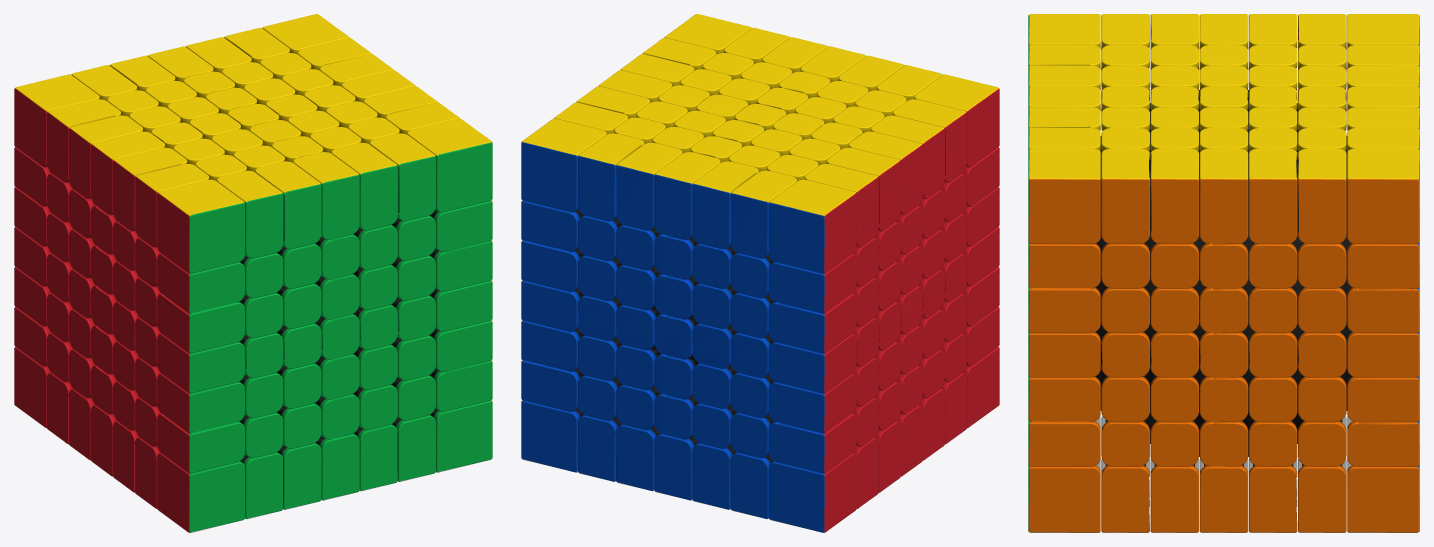
The picture shows the model from 3 angles, left to right: view 1: azimuth 30°, elevation 25°; view 2: azimuth 150°, elevation 25°; view 3: azimuth 270°, elevation 25°; orthographic projection. The views are drawn at different scales.
Visible parts, largest first — view 1: piece_-3,3,3, piece_-3,-3,3, piece_3,3,3, piece_-3,3,-3, piece_-3,-2,3, piece_-3,1,3, piece_-3,0,3, piece_-3,-1,3, piece_-3,2,3, piece_-1,3,3, piece_3,-3,3, piece_1,3,3 (+115 smaller); view 2: piece_-3,3,-3, piece_-3,-3,-3, piece_3,3,-3, piece_-3,3,3, piece_-3,-2,-3, piece_-3,1,-3, piece_-3,0,-3, piece_-3,2,-3, piece_-3,-1,-3, piece_1,3,-3, piece_-1,3,-3, piece_2,3,-3 (+115 smaller); view 3: piece_3,3,-3, piece_3,3,3, piece_3,-3,3, piece_3,-3,-3, piece_3,3,0, interior_occlusion, piece_3,3,2, piece_3,3,-1, piece_3,3,-2, piece_3,3,1, piece_3,-3,0, piece_3,1,3 (+80 smaller).
Part boxes in pixels (x1,y1,x2,y2): piece_-3,3,3: (157, 179, 245, 273); piece_-3,-3,3: (157, 453, 245, 532); piece_3,3,3: (407, 118, 492, 212); piece_-3,3,-3: (14, 74, 99, 167); piece_-3,-2,3: (157, 413, 245, 473); piece_-3,1,3: (157, 294, 245, 353); piece_-3,0,3: (157, 333, 245, 393); piece_-3,-1,3: (157, 373, 245, 433); piece_-3,2,3: (157, 253, 245, 313); piece_-1,3,3: (255, 161, 321, 249); piece_3,-3,3: (430, 400, 492, 472); piece_1,3,3: (331, 142, 397, 230); piece_-3,3,-3: (768, 179, 856, 273); piece_-3,-3,-3: (768, 453, 856, 532); piece_3,3,-3: (521, 118, 606, 212); piece_-3,3,3: (914, 74, 999, 167); piece_-3,-2,-3: (768, 413, 856, 473); piece_-3,1,-3: (768, 293, 856, 353); piece_-3,0,-3: (768, 333, 856, 393); piece_-3,2,-3: (768, 253, 856, 313); piece_-3,-1,-3: (768, 373, 856, 433); piece_1,3,-3: (616, 142, 682, 230); piece_-1,3,-3: (692, 161, 758, 249); piece_2,3,-3: (578, 133, 644, 221); piece_3,3,-3: (1347, 148, 1419, 244); piece_3,3,3: (1028, 148, 1100, 244); piece_3,-3,3: (1028, 465, 1100, 532); piece_3,-3,-3: (1347, 465, 1419, 532); piece_3,3,0: (1199, 148, 1248, 244); interior_occlusion: (1095, 90, 1352, 456); piece_3,3,2: (1101, 148, 1149, 244); piece_3,3,-1: (1249, 148, 1297, 244); piece_3,3,-2: (1298, 148, 1346, 244); piece_3,3,1: (1150, 148, 1198, 244); piece_3,-3,0: (1199, 464, 1248, 532); piece_3,1,3: (1028, 287, 1100, 333).
Bounding box in the file's own units: 2 × 2 × 2.
